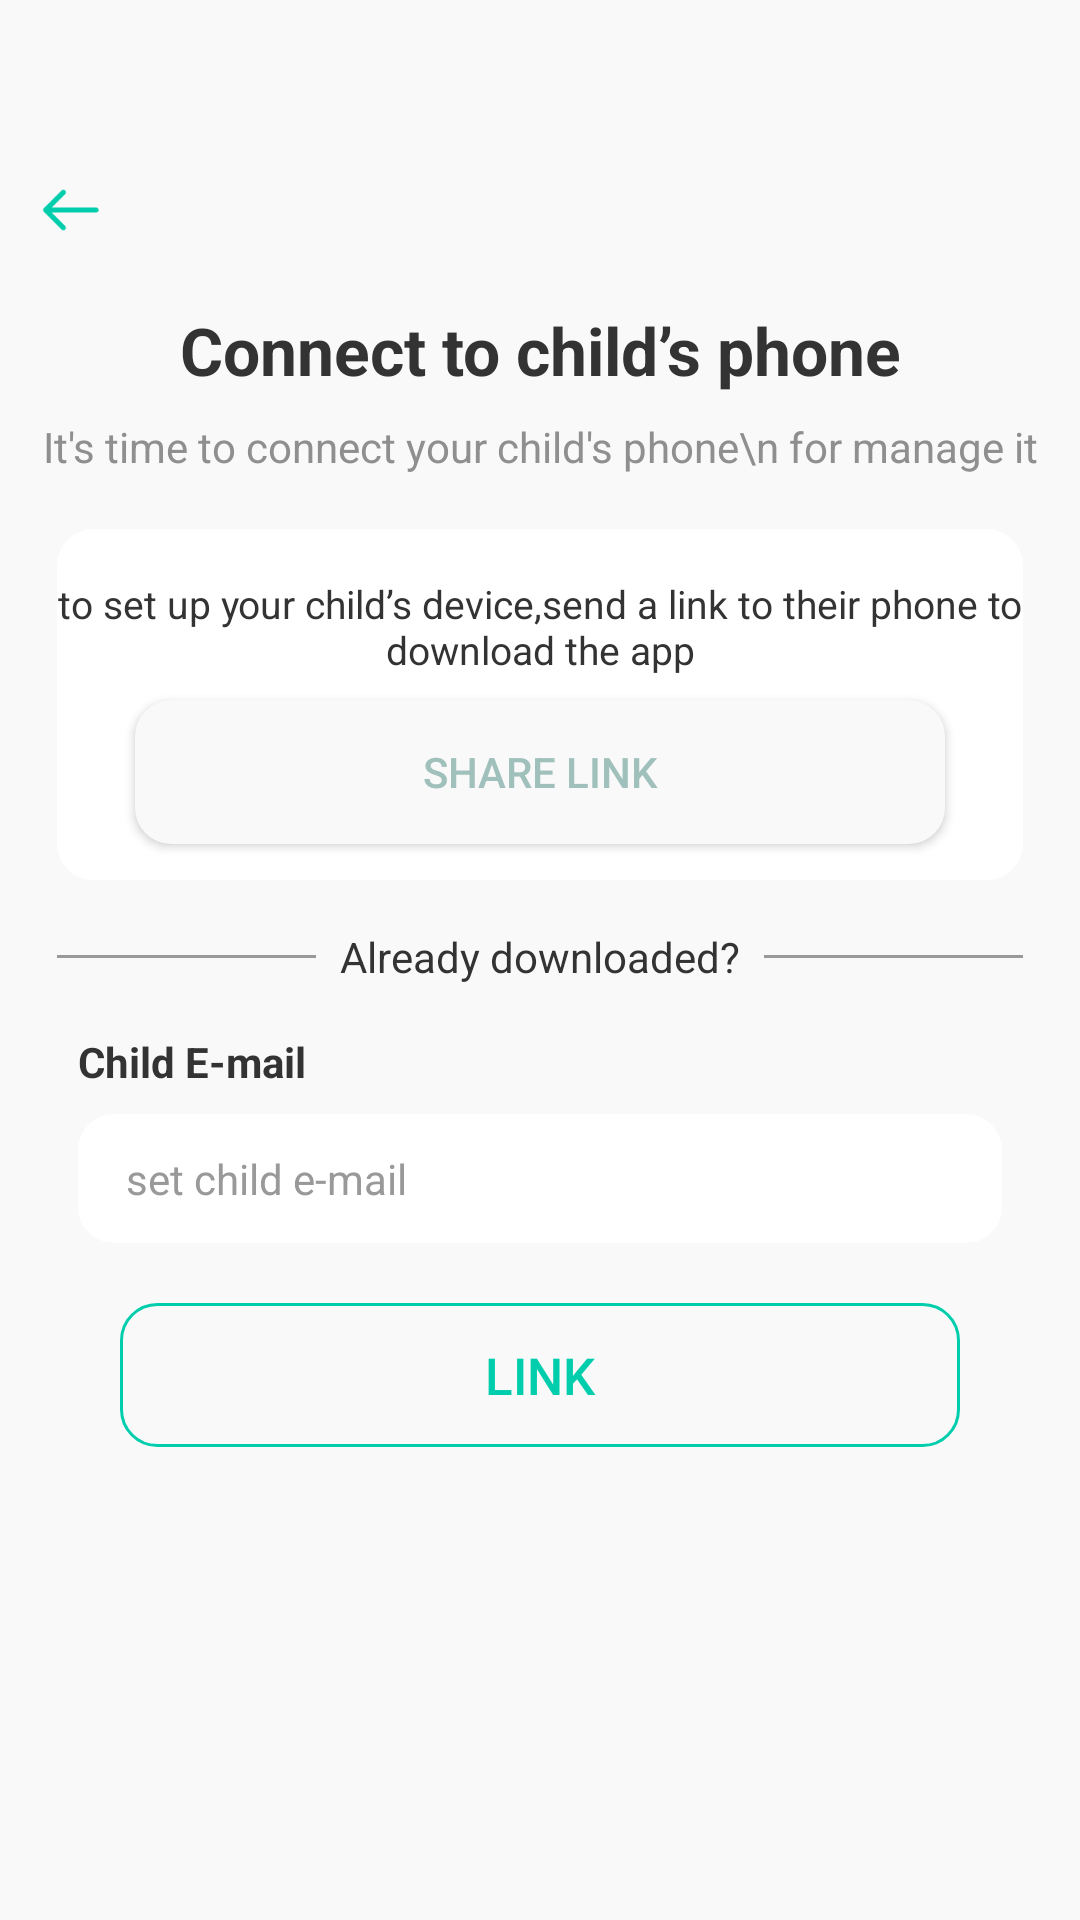

Locate icon controls on the screen. Image size 1080 × 1920, boxes as [x1, y1, x2, y2].
left arrow: [43, 189, 99, 231]
